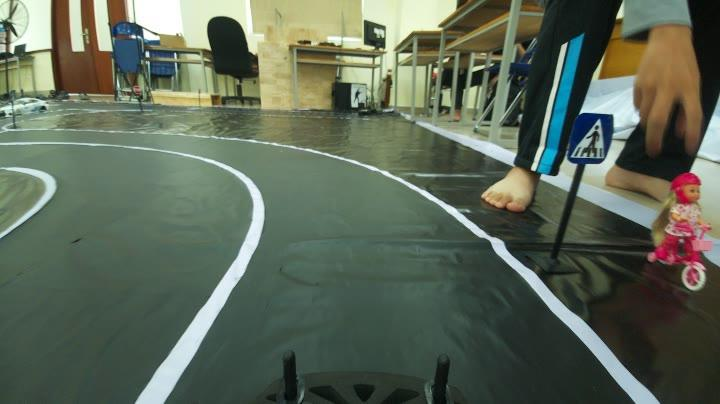crosswalk: (566, 114, 618, 164)
pedestrian: (642, 165, 708, 294)
